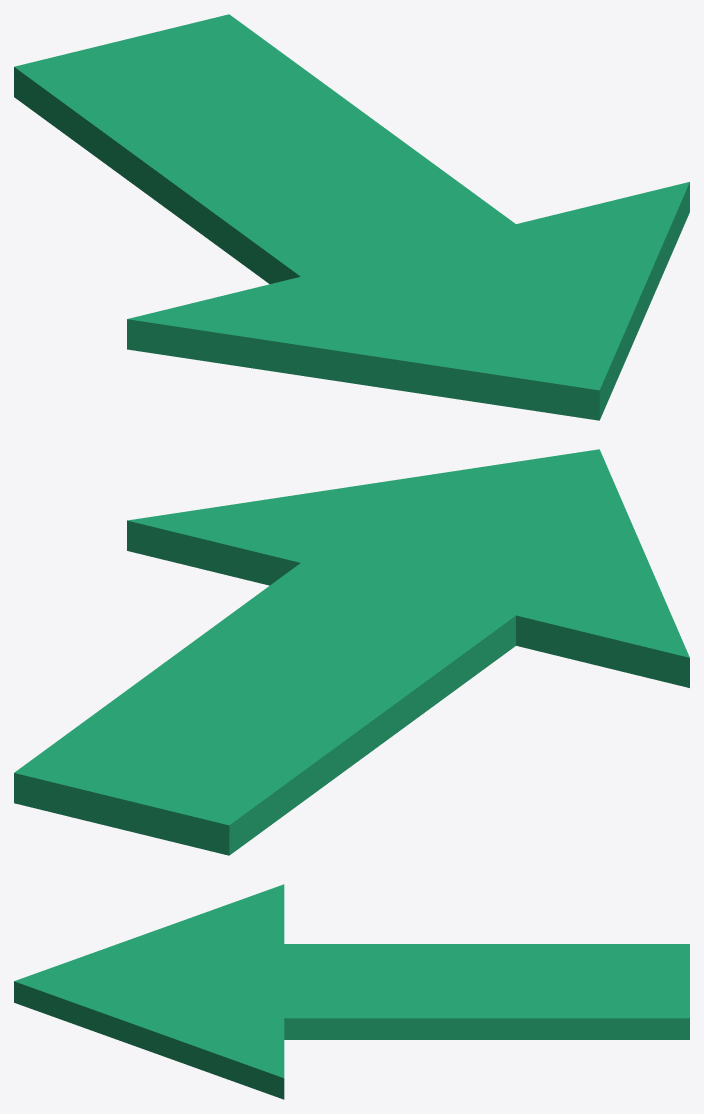
File: placeholder_exit_arrow.glb
3 renders of one model, top to bottom at view 1: azimuth 30°, elevation 25°; view 2: azimuth 150°, elevation 25°; view 3: azimuth 270°, elevation 25°, orthographic. The views are drawn at different scales.
Visible parts, largest first — view 1: ExitArrow; view 2: ExitArrow; view 3: ExitArrow.
Part boxes in pixels (x1,y1,x2,y2): ExitArrow: [14, 14, 689, 420]; ExitArrow: [14, 449, 689, 855]; ExitArrow: [14, 884, 689, 1099].
Size of the model in its own units: 0.68 by 0.035 by 1.
